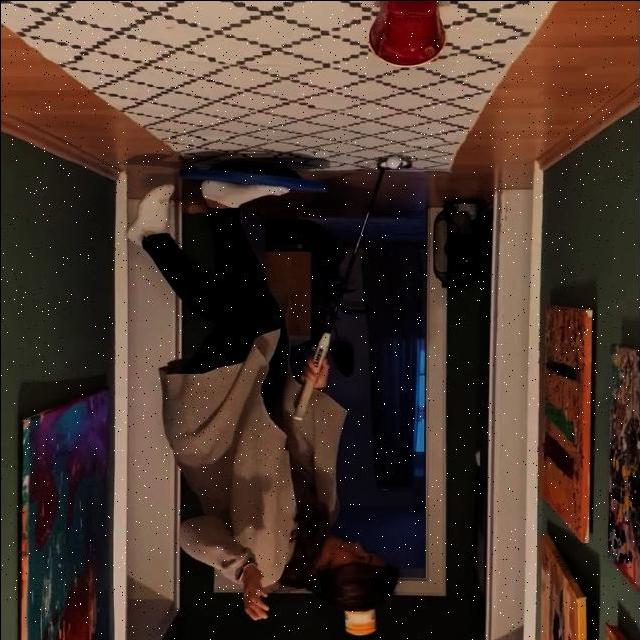ClubHandle: (293, 156, 411, 427)
ClubHead: (373, 159, 413, 171)
GolfBall: (386, 156, 397, 167)
